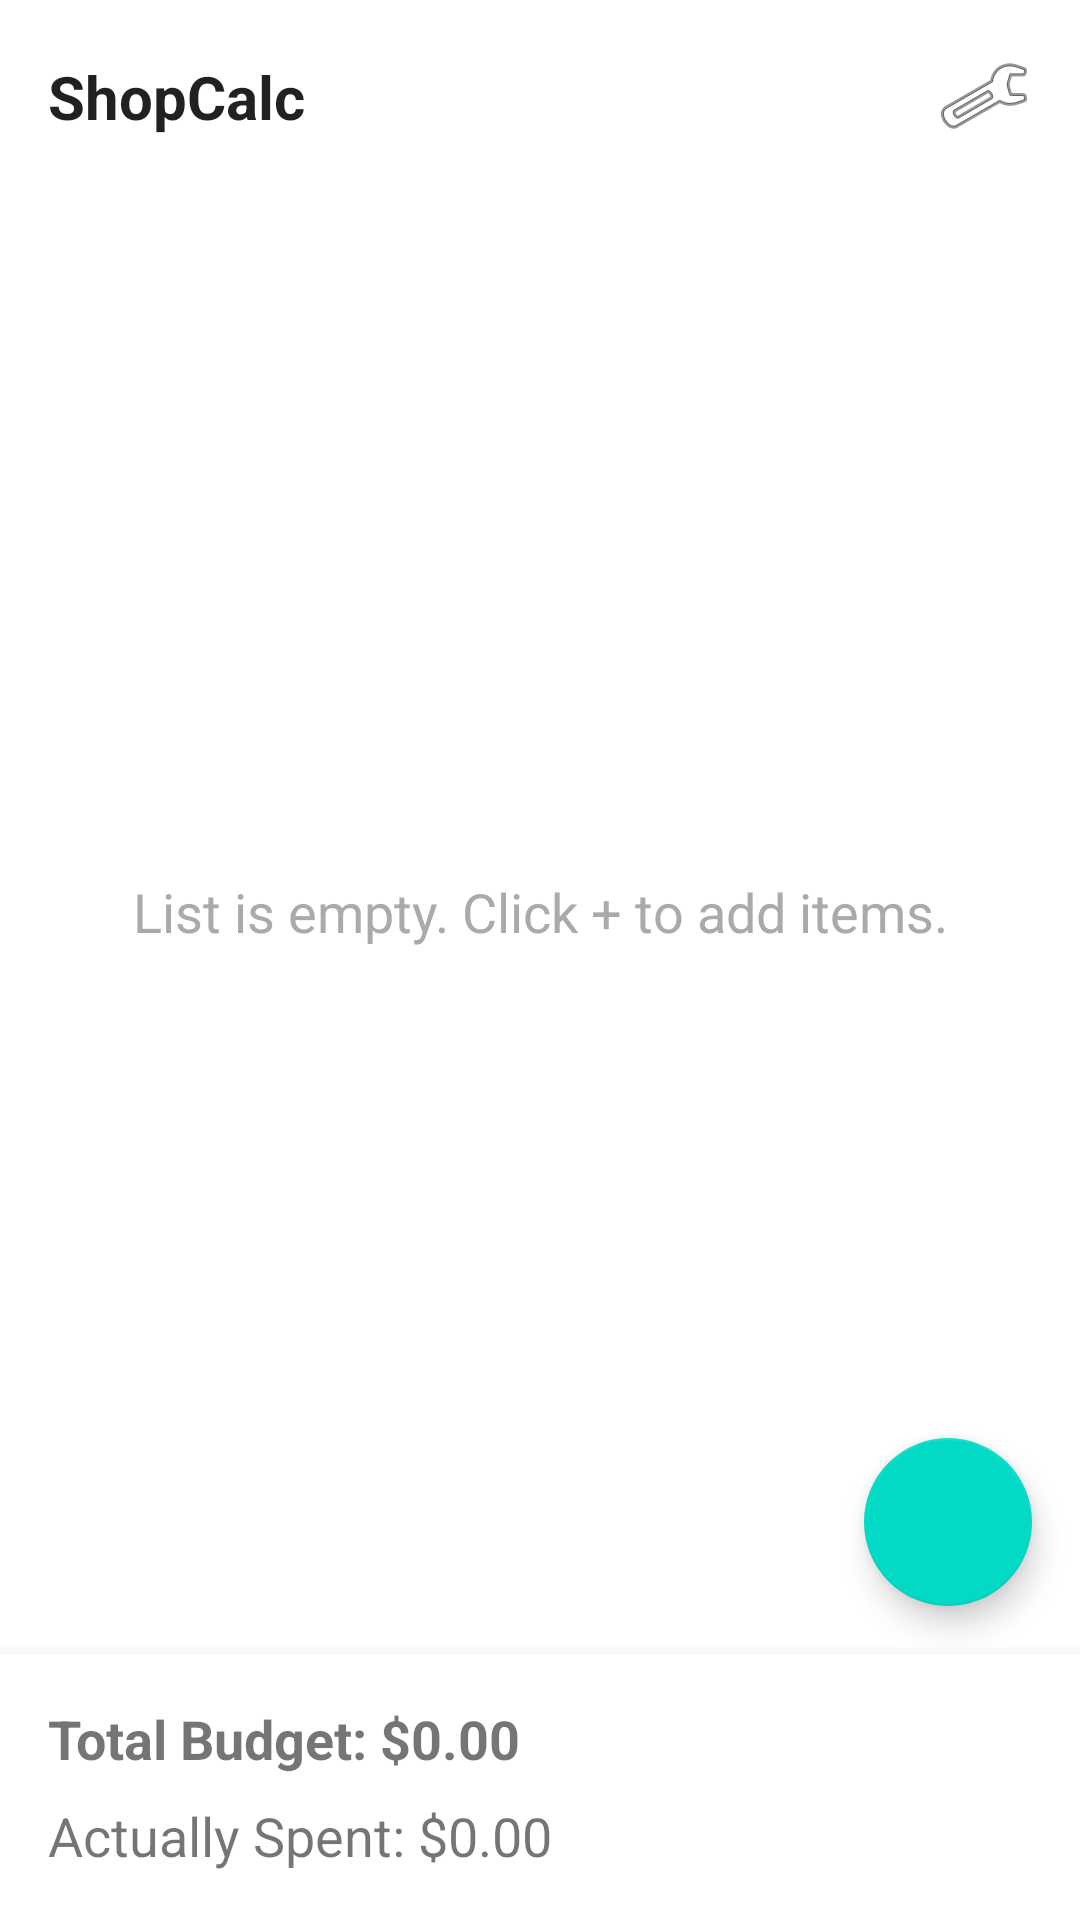

Locate icon controls on the screen. Image size 1080w x 1920h, boxes as BBox(x1, y1, x2, y2).
Settings: BBox(941, 63, 1027, 129)
